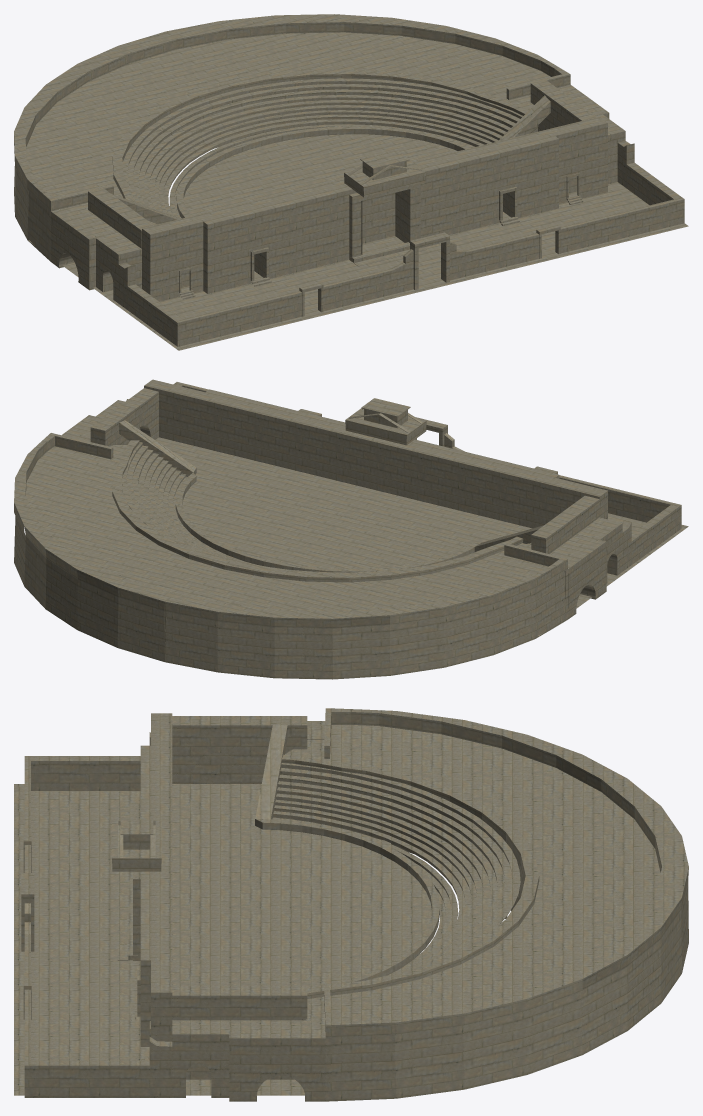
File: AmphiTheatreDeChemtou.glb
3 views of the same model, one above another, from view 1: azimuth 30°, elevation 25°; view 2: azimuth 150°, elevation 25°; view 3: azimuth 270°, elevation 25° (orthographic). The views are drawn at different scales.
Parts seen in each view (by area): view 1: Plane; view 2: Plane; view 3: Plane.
Part boxes in pixels (x1=…): Plane: x1=14, y1=14, x2=688, y2=350; Plane: x1=14, y1=379, x2=688, y2=679; Plane: x1=14, y1=708, x2=688, y2=1101.
Bounding box in the file's own units: 30.63 × 5.69 × 27.53.
Materials: 1 (1 with a texture image).
